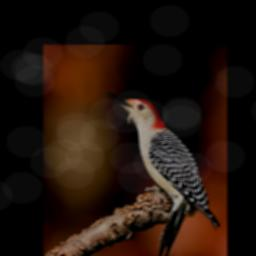Woodpecker: (105, 92, 222, 256)
